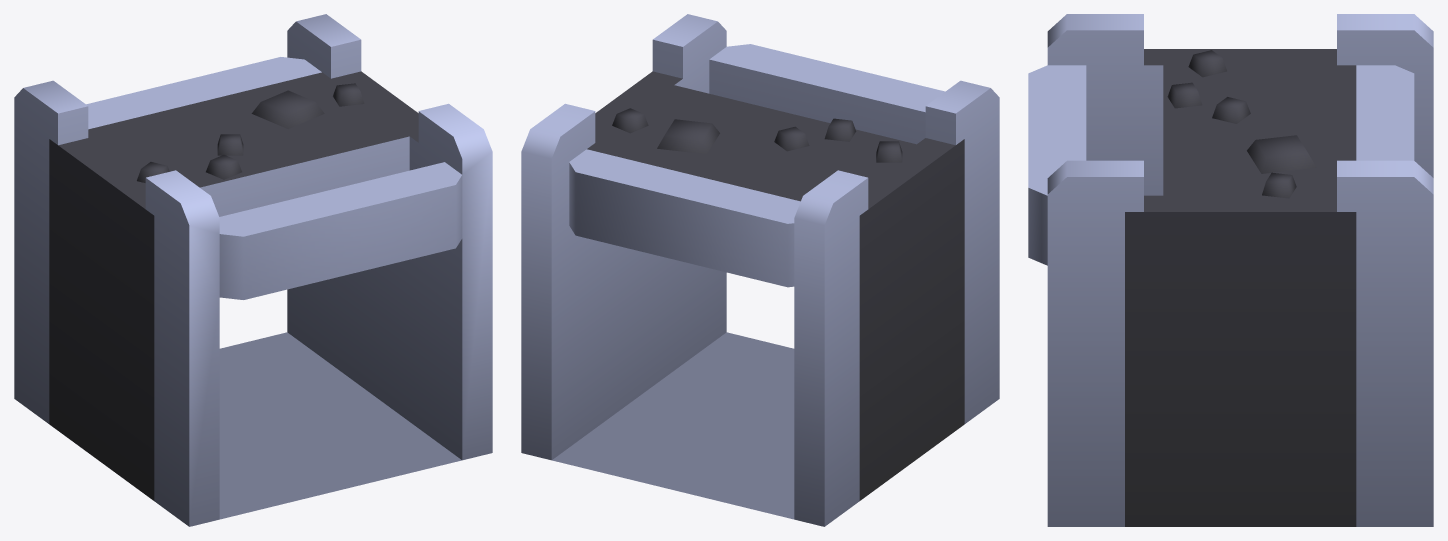
Rendered from wall-opening.obj.
The picture shows the model from 3 angles, left to right: view 1: azimuth 30°, elevation 25°; view 2: azimuth 150°, elevation 25°; view 3: azimuth 270°, elevation 25°; orthographic projection. The views are drawn at different scales.
Visible parts, largest first — view 1: wall-opening; view 2: wall-opening; view 3: wall-opening.
Part boxes in pixels (<box>): wall-opening: <box>14,14,492,526</box>; wall-opening: <box>521,14,999,526</box>; wall-opening: <box>1028,14,1433,526</box>.
Size of the model in its own units: 1 by 1 by 1.05.
1 material, 1 textured.
